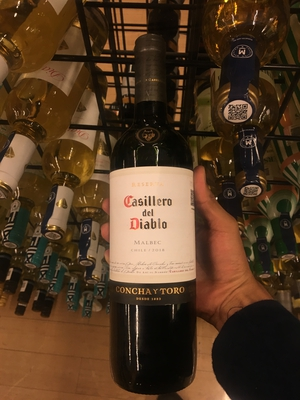casillero del diablo malbec: (94, 28, 222, 389)
